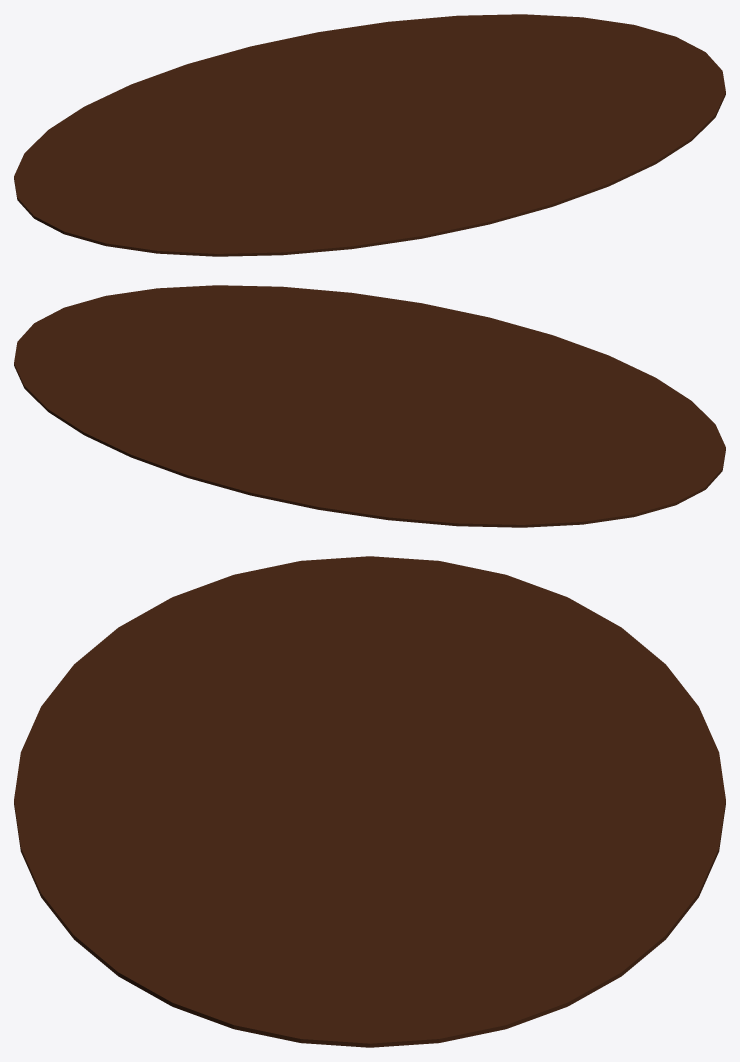
File: Carpet.fbx
3 views of the same model, one above another, from view 1: azimuth 30°, elevation 25°; view 2: azimuth 150°, elevation 25°; view 3: azimuth 270°, elevation 25° (orthographic). The views are drawn at different scales.
Visible parts, largest first — view 1: Circle; view 2: Circle; view 3: Circle.
Boxes of the visible parts, x1=… form: Circle: x1=14, y1=14, x2=725, y2=256; Circle: x1=14, y1=285, x2=725, y2=527; Circle: x1=14, y1=556, x2=725, y2=1047.
Bounding box in the file's own units: 723 × 2.86 × 446.
